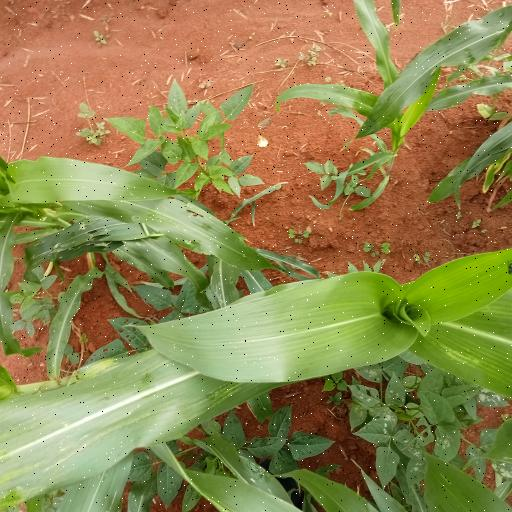Corn_Brown_Spots: (148, 261, 512, 397)
